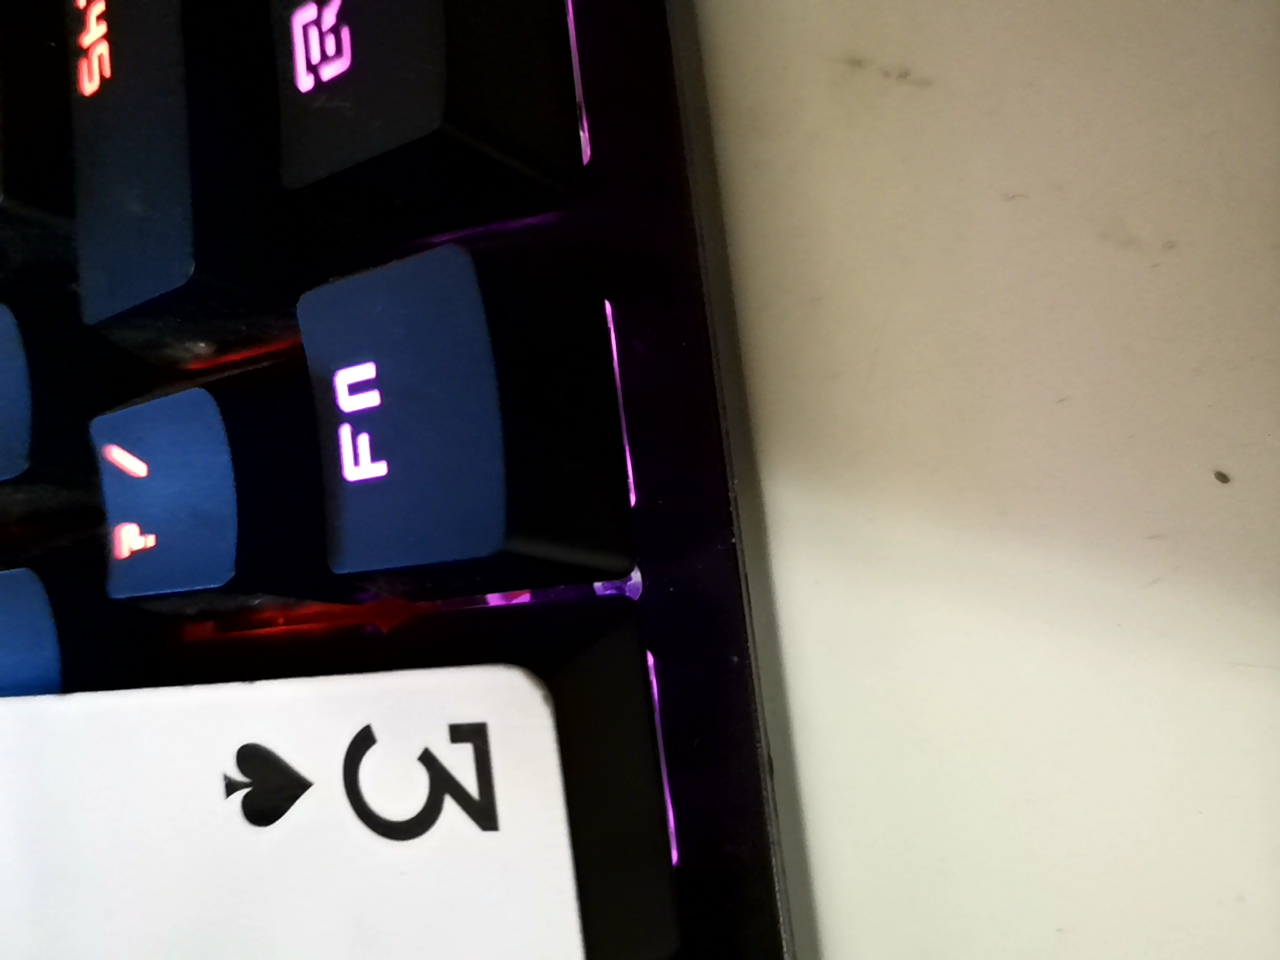ht 3: (14, 651, 629, 956)
